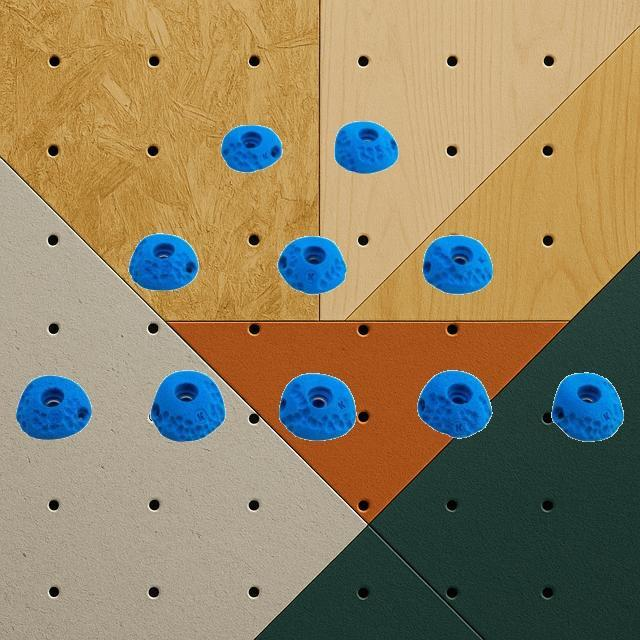Crimp: (150, 370, 226, 442), (278, 372, 356, 440), (550, 371, 624, 441), (416, 370, 492, 438), (16, 374, 92, 440), (422, 234, 492, 294), (128, 232, 198, 290), (278, 236, 346, 294), (334, 120, 398, 173), (220, 124, 282, 172)
